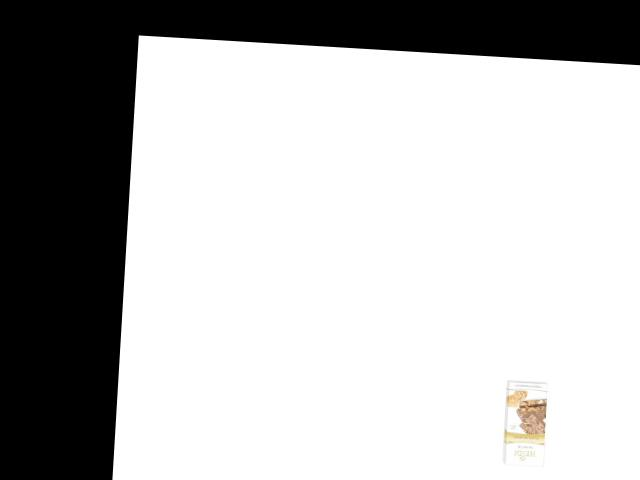chocolate: (499, 377, 549, 470)
